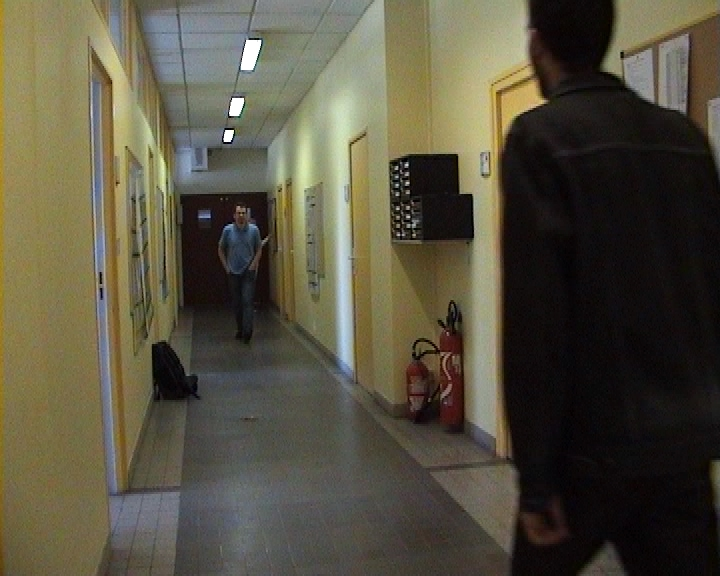leave bag unattended: (137, 323, 213, 422)
